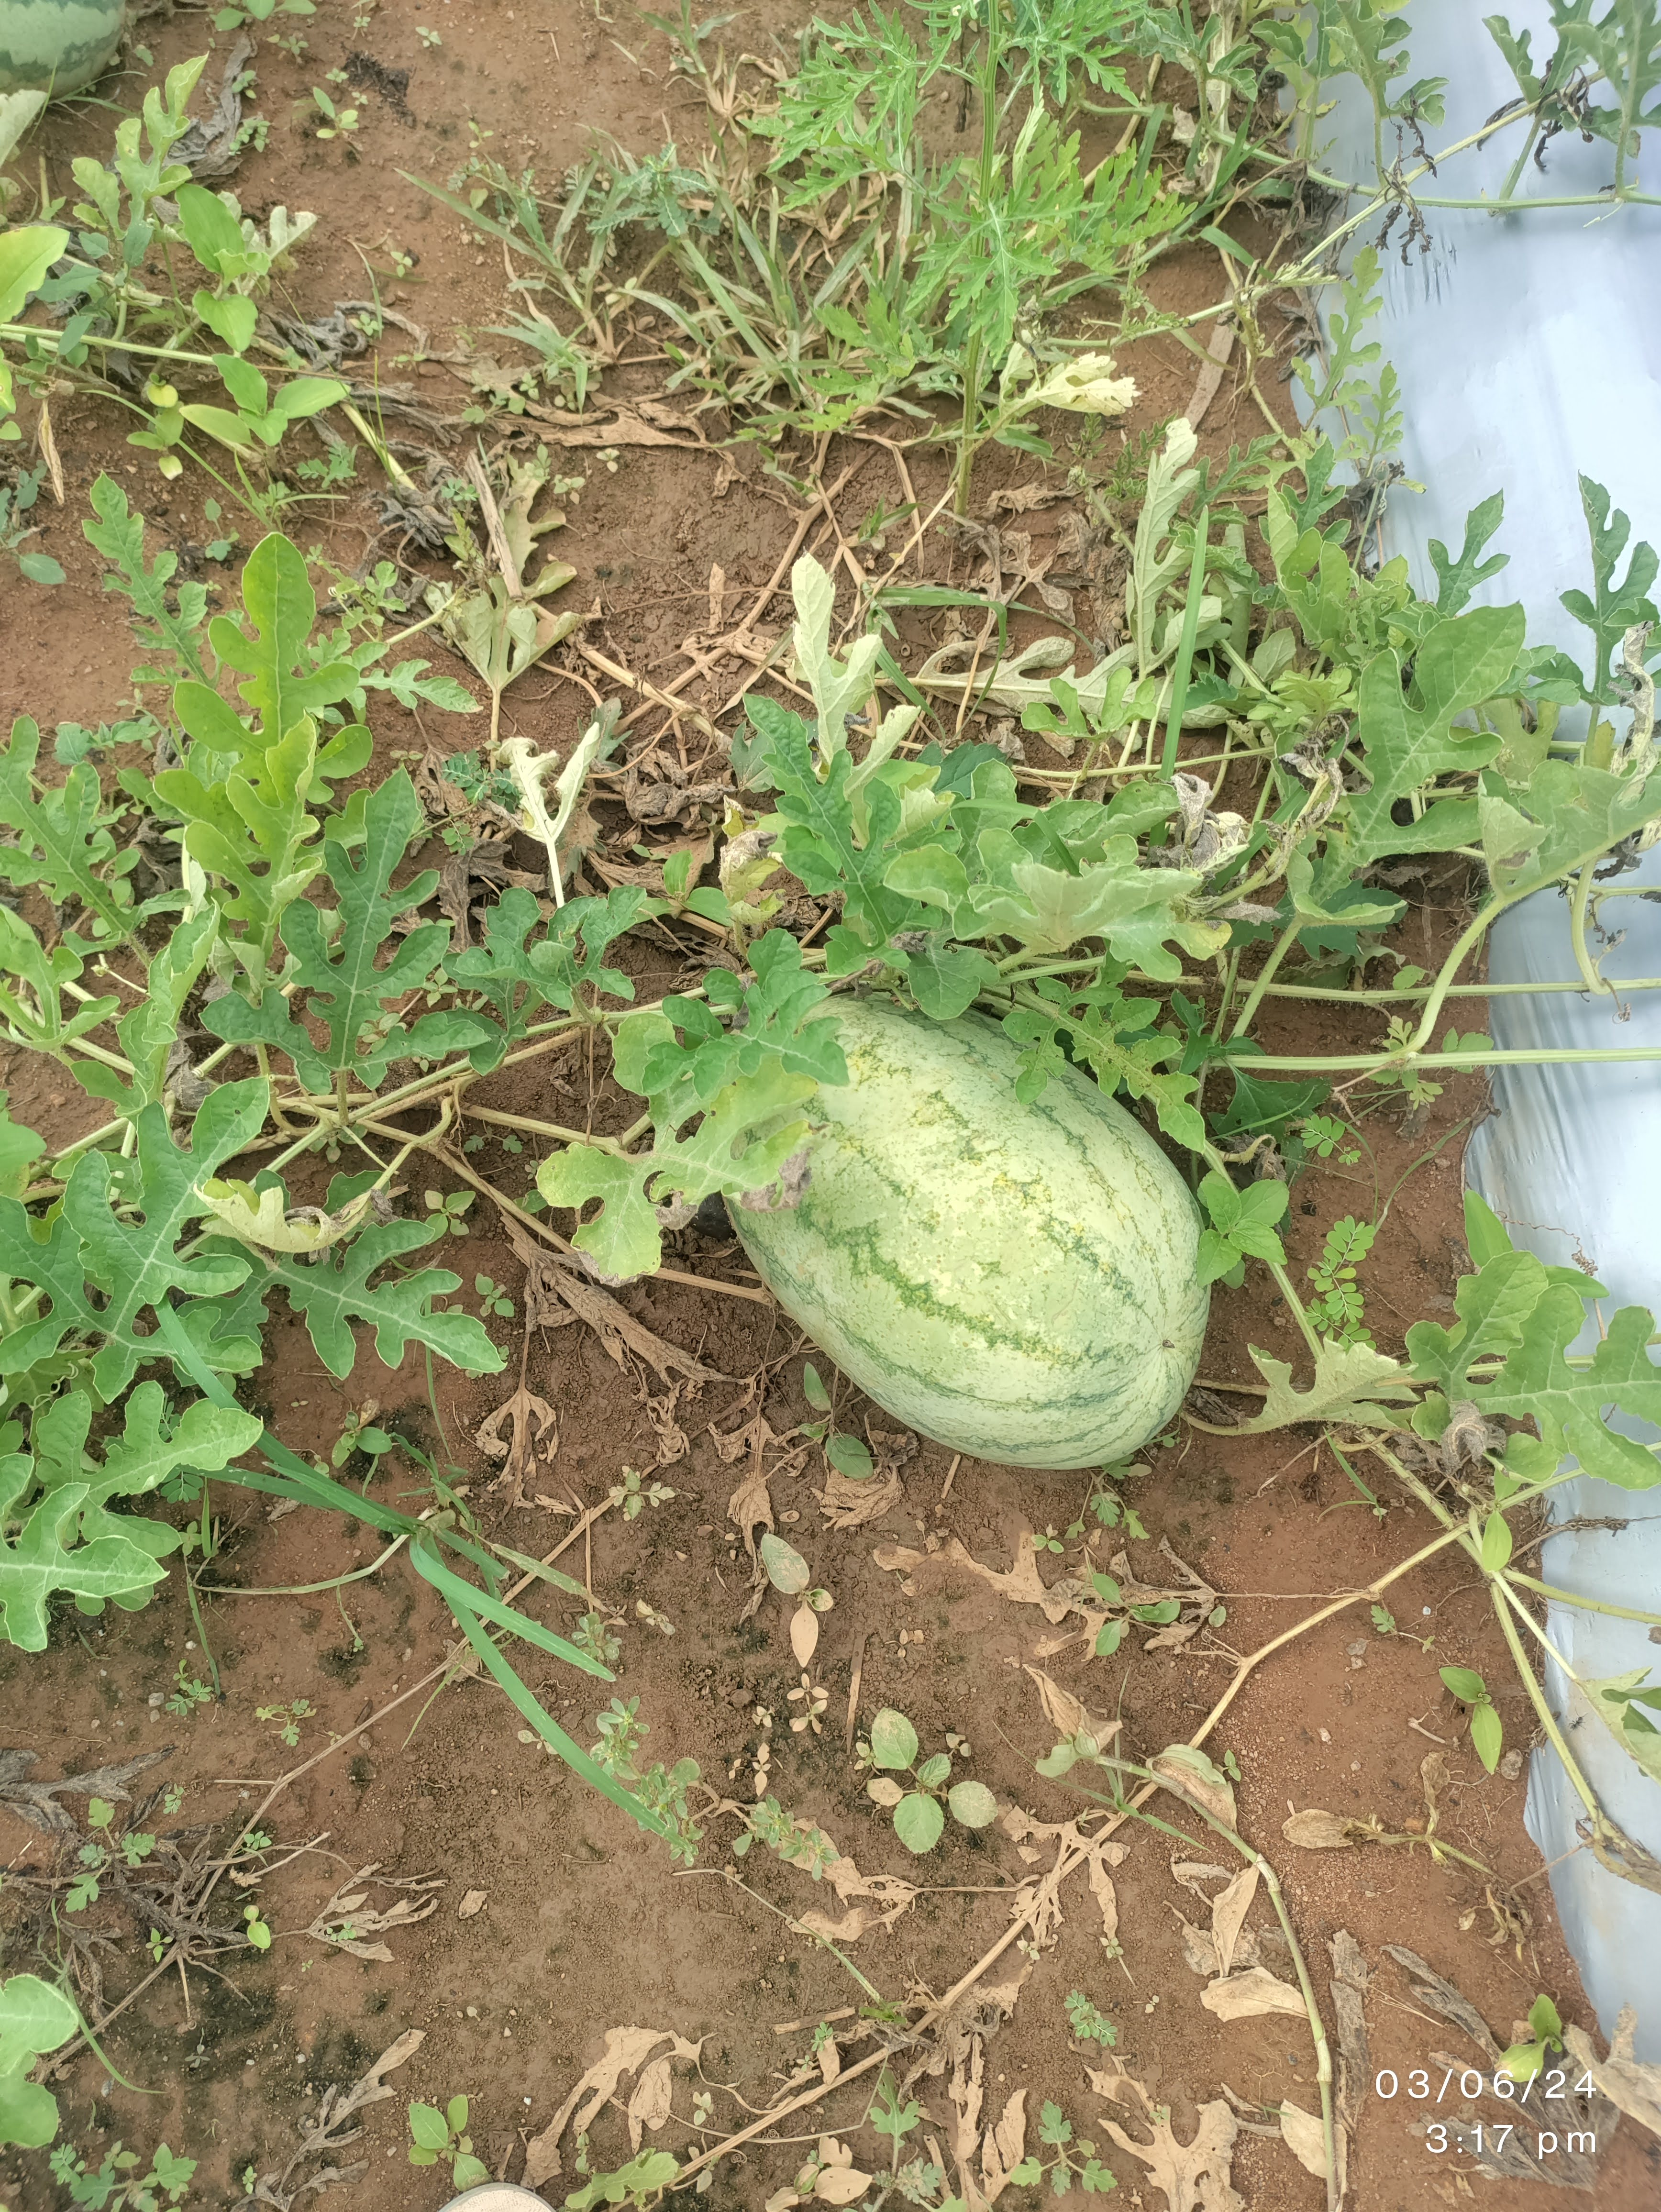good-to-harvest: (665, 949, 1274, 1478)
